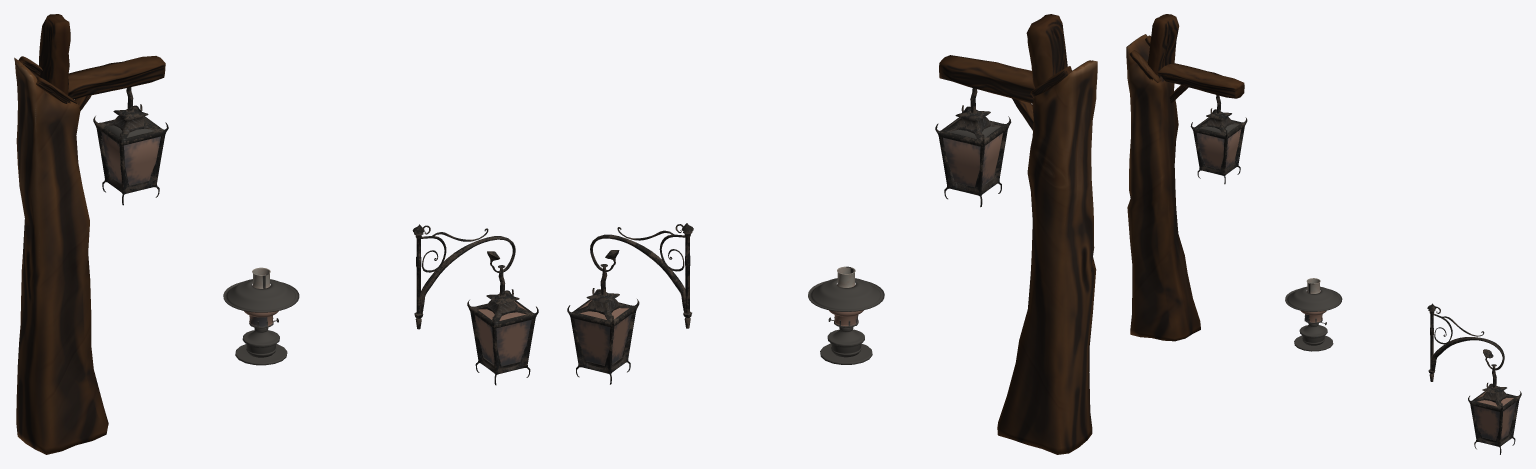
Rendered from Lamps1.fbx.
3 views of the same model, side by side, from view 1: azimuth 30°, elevation 25°; view 2: azimuth 150°, elevation 25°; view 3: azimuth 330°, elevation 25° (orthographic). The views are drawn at different scales.
Parts seen in each view (by area): view 1: Wooden_post, Wall_Light, Lantern; view 2: Wooden_post, Wall_Light, Lantern; view 3: Wooden_post, Wall_Light, Lantern.
Boxes of the visible parts, <box> form: Wooden_post: <box>14,14,168,454</box>; Wall_Light: <box>412,224,538,385</box>; Lantern: <box>223,267,299,365</box>; Wooden_post: <box>935,14,1097,454</box>; Wall_Light: <box>567,223,693,384</box>; Lantern: <box>808,266,884,364</box>; Wooden_post: <box>1126,14,1247,341</box>; Wall_Light: <box>1427,303,1521,454</box>; Lantern: <box>1285,278,1342,351</box>.
Size of the model in its own units: 333 by 292 by 43.45.
